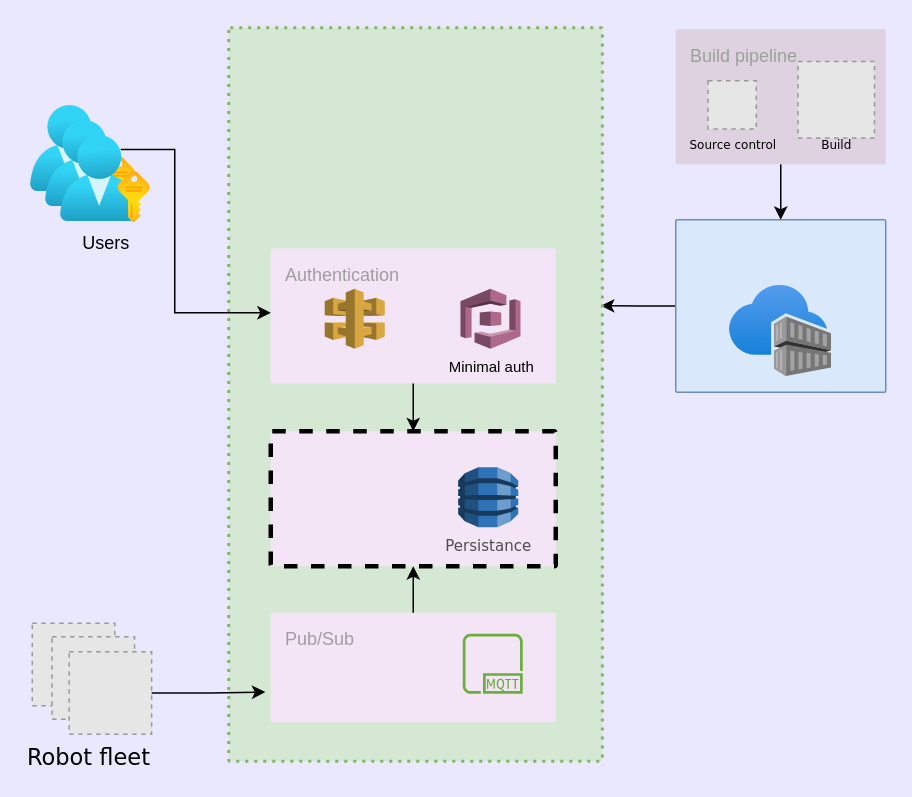
This 912x797 diagram has some shape labels left out. Grey dashed boxes stand in for pictures. The box of each missing label's shape, as (x1, y1, x2, y2) in pixels:
API Gateway: (323, 287, 385, 349)
Cloud: (226, 26, 603, 762)
Event processor / scheduler core: (268, 428, 557, 568)
Manual deployment: (674, 218, 886, 392)
Protocol: (462, 633, 522, 693)
